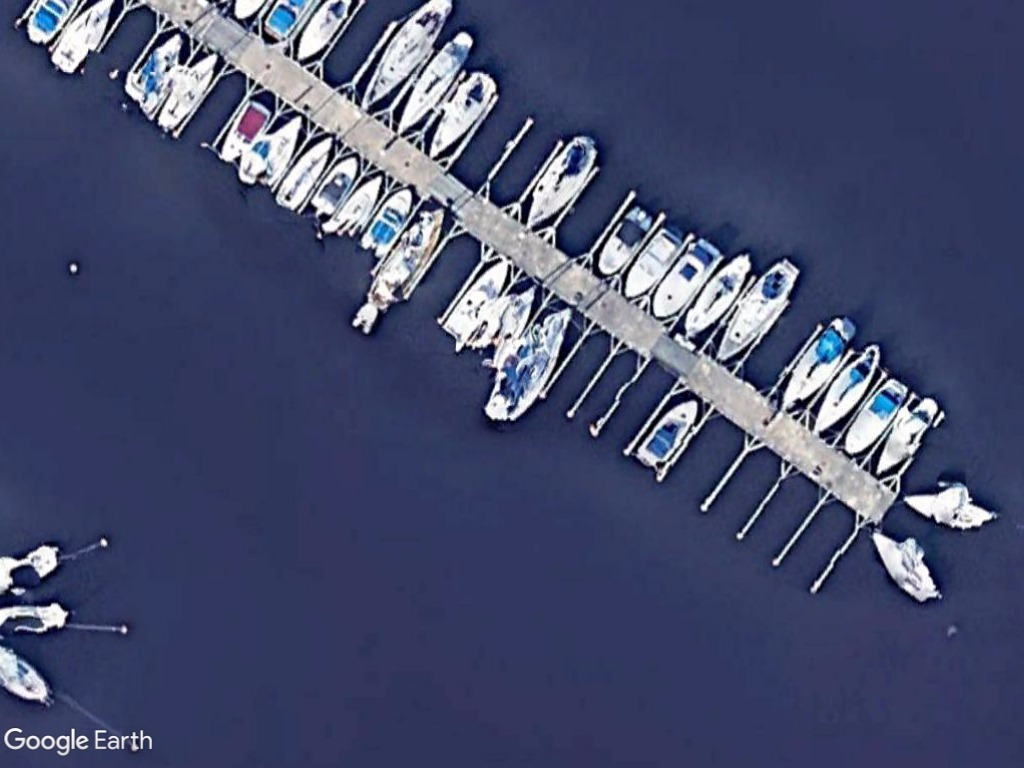boat: (353, 0, 457, 107), (707, 258, 805, 368), (389, 26, 477, 139), (772, 315, 859, 416), (520, 131, 600, 234), (805, 338, 887, 438), (678, 249, 755, 346), (436, 253, 515, 347), (422, 70, 501, 161), (644, 234, 724, 322), (837, 377, 912, 464), (869, 394, 942, 480), (154, 49, 221, 134), (617, 223, 690, 301), (121, 25, 187, 108), (632, 394, 701, 473), (274, 132, 334, 214), (593, 203, 657, 278), (211, 95, 272, 168), (326, 169, 386, 237), (359, 184, 414, 258), (307, 153, 362, 217)
